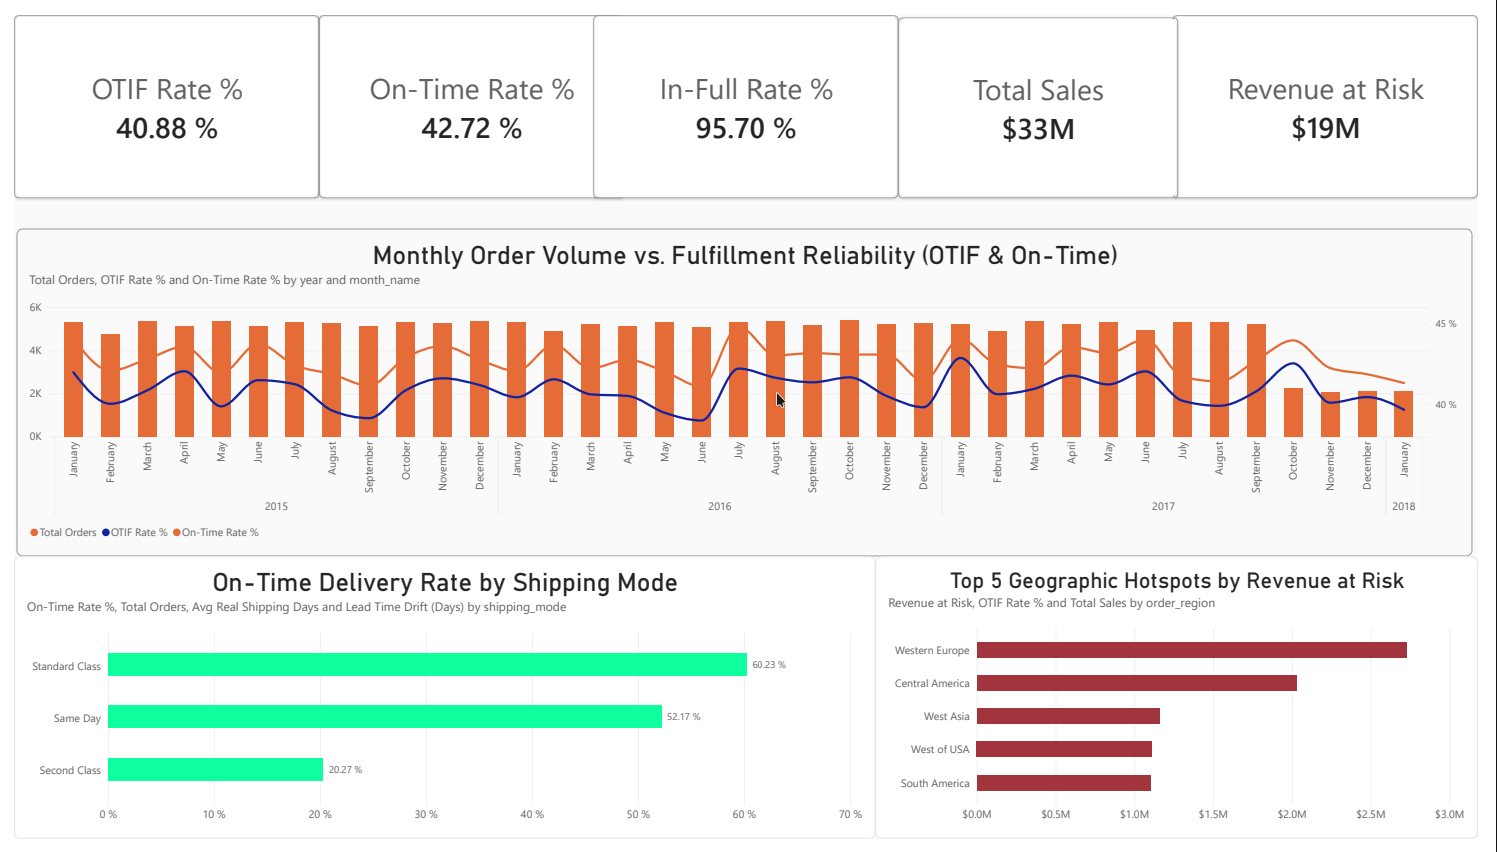

The dashboard page shown, as its layout file describes it:
{"tool":"powerbi","page":{"name":"Page 1","canvas":[1920,1080],"ordinal":0},"visuals":[{"type":"cardVisual","fields":{"Data":["_Measures.OTIF Rate %"]},"box":[0,0,400,240],"z":0},{"type":"cardVisual","fields":{"Data":["_Measures.On-Time Rate %"]},"box":[400,0,400,240],"z":1},{"type":"cardVisual","fields":{"Data":["_Measures.In-Full Rate %"]},"box":[760,0,400,240],"z":2},{"type":"cardVisual","fields":{"Data":["_Measures.Revenue at Risk"]},"box":[1520,0,400,240],"z":3},{"type":"lineClusteredColumnComboChart","title":"Monthly Order Volume vs. Fulfillment Reliability (OTIF & On-Time)","fields":{"Category":["dim_date.year","dim_date.month_name"],"Y":["_Measures.Total Orders"],"Y2":["_Measures.OTIF Rate %","_Measures.On-Time Rate %"]},"box":[3.3,280,1910,430],"z":4},{"type":"clusteredBarChart","title":"On-Time Delivery Rate by Shipping Mode","fields":{"Category":["dim_shipping.shipping_mode"],"Y":["_Measures.On-Time Rate %"]},"box":[0,710,1130,370],"z":5},{"type":"clusteredBarChart","title":"Top 5 Geographic Hotspots by Revenue at Risk","fields":{"Category":["dim_customer.order_region"],"Y":["_Measures.Revenue at Risk"]},"box":[1130,710,790,370],"z":6},{"type":"cardVisual","fields":{"Data":["_Measures.Total Sales"]},"box":[1160,3.3,366.7,236.7],"z":7}]}

Visuals, with their boxes in screenshot pixels (x1, y1, x2, y2), scaled from the page's 1920x1080 canvas onto the 1497x852 screenshot:
cardVisual - _Measures.OTIF Rate %: pyautogui.locateOnScreen(0, 0, 312, 189)
cardVisual - _Measures.On-Time Rate %: pyautogui.locateOnScreen(312, 0, 624, 189)
cardVisual - _Measures.In-Full Rate %: pyautogui.locateOnScreen(593, 0, 904, 189)
cardVisual - _Measures.Revenue at Risk: pyautogui.locateOnScreen(1185, 0, 1496, 189)
"Monthly Order Volume vs. Fulfillment Reliability (OTIF & On-Time)" lineClusteredColumnComboChart: pyautogui.locateOnScreen(3, 221, 1492, 560)
"On-Time Delivery Rate by Shipping Mode" clusteredBarChart: pyautogui.locateOnScreen(0, 560, 881, 851)
"Top 5 Geographic Hotspots by Revenue at Risk" clusteredBarChart: pyautogui.locateOnScreen(881, 560, 1496, 851)
cardVisual - _Measures.Total Sales: pyautogui.locateOnScreen(904, 3, 1190, 189)
